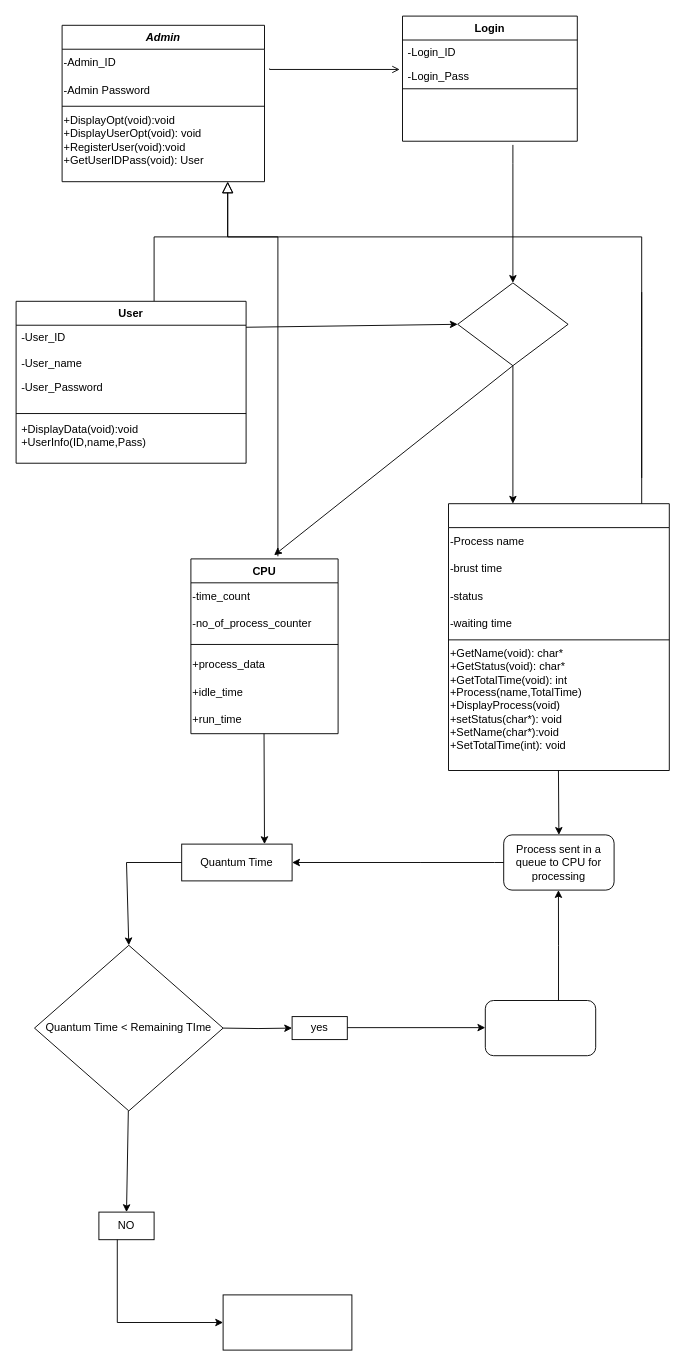
The diagram is 685 pixels wide and 1366 high, and some of its shapes have lost their labels. Each missing label, with the box of its shape:
Logged_in Successfully: (457, 282, 568, 366)
Process Completed Calculate the time required to complete the process: (222, 1294, 352, 1350)
Processes: (448, 503, 669, 770)
send the process to queue again: (484, 1000, 596, 1056)
